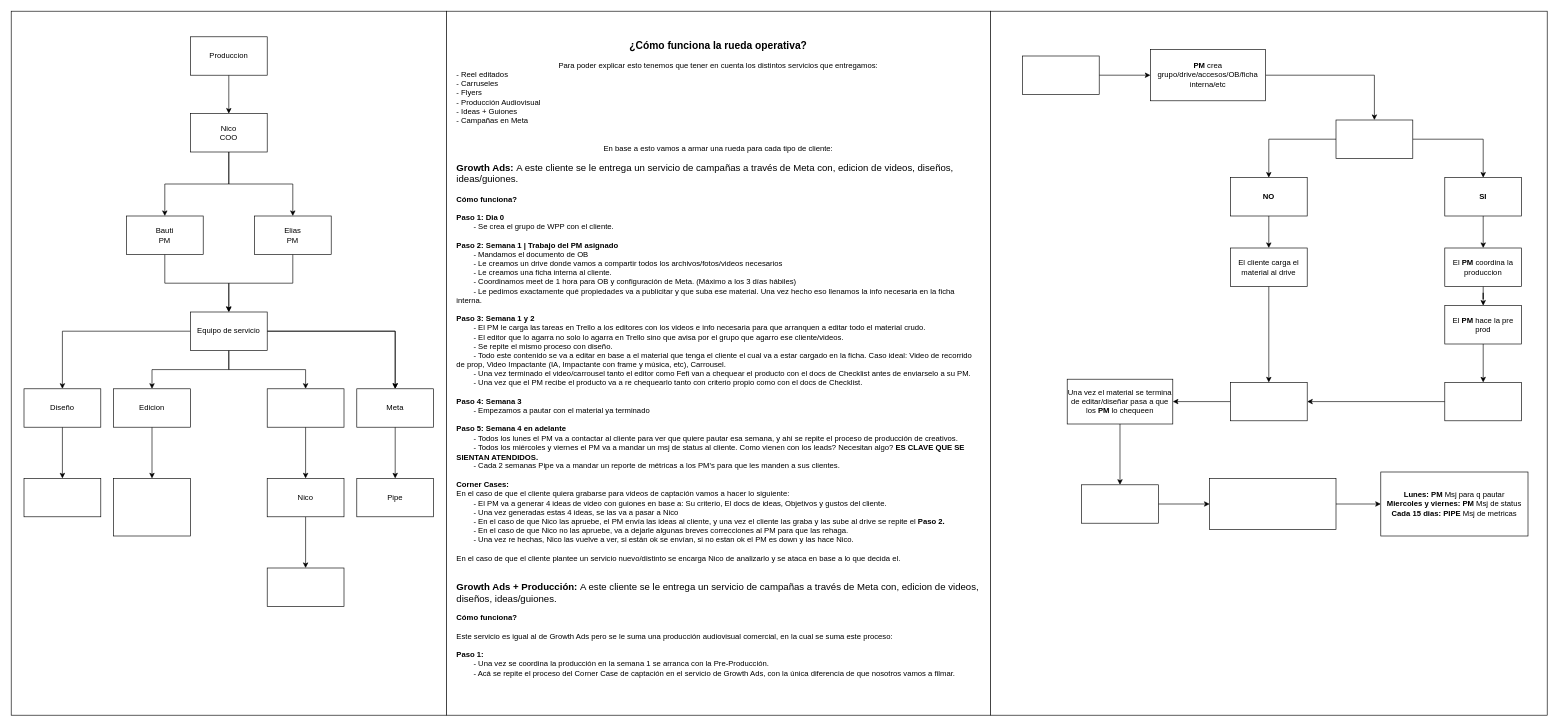
Image size: 1558x726. Some labels were removed from this diagram. Each missing label, with the centre of its shape:
Bauti: (x=305, y=586)
Cuando el material ya esta aprobado, PIPE arranca a pautar: (x=1119, y=503)
El PM le carga las tareas a edicion y diseño: (x=1268, y=401)
Entra cliente nuevo: (x=1060, y=74)
Fefi: (x=62, y=497)
Gian Fran Eze Bauti: (x=151, y=507)
Hay producción?: (x=1374, y=138)
Producción audiovisual: (x=305, y=407)
Se hace la prod y se carga el material al drive: (x=1483, y=401)
Una vez ya hay pautas corriendo arranca la última fase: Seguimiento y métricas: (x=1272, y=504)
